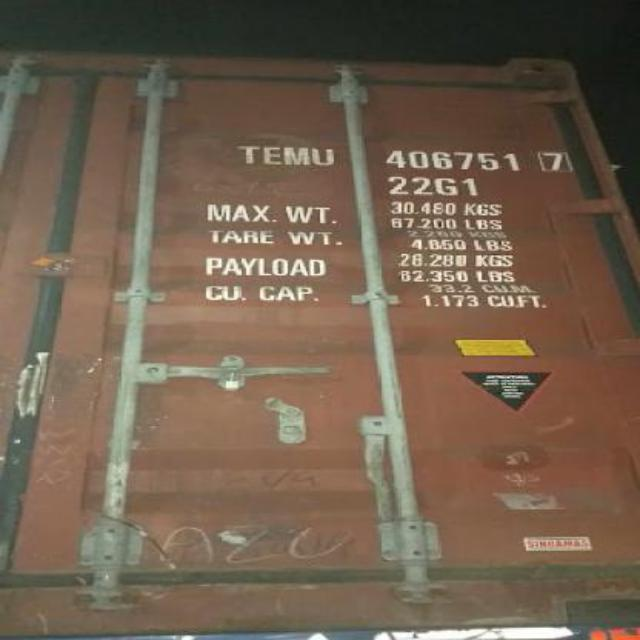0: (406, 148, 432, 174)
1: (498, 148, 528, 175)
4: (384, 146, 406, 172)
5: (476, 146, 496, 176)
6: (431, 146, 452, 172)
7: (542, 147, 576, 177), (448, 144, 478, 174)
E: (260, 140, 284, 167)
M: (284, 142, 310, 172)
T: (234, 140, 260, 168)
U: (310, 142, 342, 170)
